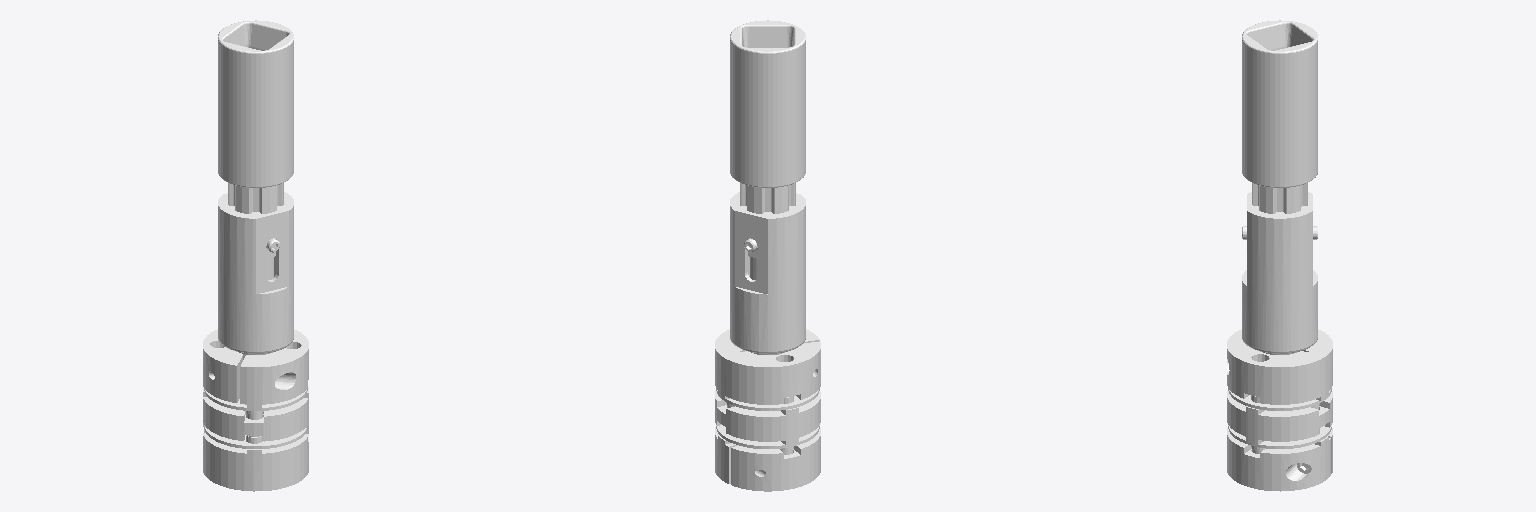
robot.urdf — 摇入摇出机构:
<?xml version="1.0" encoding="utf-8"?>
<!-- This URDF was automatically created by SolidWorks to URDF Exporter! Originally created by Stephen Brawner (brawner@gmail.com) 
     Commit Version: 1.5.1-0-g916b5db  Build Version: 1.5.7152.31018
     For more information, please see http://wiki.ros.org/sw_urdf_exporter -->
<robot
  name="摇入摇出机构">
  <link
    name="endbody2">
    <inertial>
      <origin
        xyz="-0.0027407 -0.042059 0.072703"
        rpy="0 0 0" />
      <mass
        value="0.45189" />
      <inertia
        ixx="0.00039369"
        ixy="4.162E-06"
        ixz="-3.6991E-06"
        iyy="0.00030531"
        iyz="-4.2375E-09"
        izz="0.0003897" />
    </inertial>
    <visual>
      <origin
        xyz="0 0 0"
        rpy="0 0 0" />
      <geometry>
        <mesh
          filename="package://摇入摇出机构/meshes/endbody2.STL" />
      </geometry>
      <material
        name="">
        <color
          rgba="1 1 1 1" />
      </material>
    </visual>
    <collision>
      <origin
        xyz="0 0 0"
        rpy="0 0 0" />
      <geometry>
        <mesh
          filename="package://摇入摇出机构/meshes/endbody2.STL" />
      </geometry>
    </collision>
  </link>
  <link
    name="endrotatelink">
    <inertial>
      <origin
        xyz="-1.0757E-05 -6.0061E-06 -0.086156"
        rpy="0 0 0" />
      <mass
        value="0.051985" />
      <inertia
        ixx="1.2277E-05"
        ixy="-6.5213E-09"
        ixz="-1.9512E-10"
        iyy="1.235E-05"
        iyz="-1.8084E-09"
        izz="5.3078E-06" />
    </inertial>
    <visual>
      <origin
        xyz="0 0 0"
        rpy="0 0 0" />
      <geometry>
        <mesh
          filename="package://摇入摇出机构/meshes/endrotatelink.STL" />
      </geometry>
      <material
        name="">
        <color
          rgba="1 1 1 1" />
      </material>
    </visual>
    <collision>
      <origin
        xyz="0 0 0"
        rpy="0 0 0" />
      <geometry>
        <mesh
          filename="package://摇入摇出机构/meshes/endrotatelink.STL" />
      </geometry>
    </collision>
  </link>
  <joint
    name="endbody2_endrotatelink"
    type="continuous">
    <origin
      xyz="-0.01 -0.07 0.2611"
      rpy="0 0 0" />
    <parent
      link="endbody2" />
    <child
      link="endrotatelink" />
    <axis
      xyz="0 0 1" />
    <limit
      lower="-3.14"
      upper="3.14"
      effort="100"
      velocity="1" />
    <dynamics
      damping="0.1"
      friction="1" />
    <safety_controller
      soft_upper="3.14"
      soft_lower="-3.14"
      k_position="1"
      k_velocity="1" />
  </joint>
</robot>

--- What the picture shows (computed from the rendered views, not written in the file) ---
3 views of the same robot in one strip: view 1: azimuth 30°, elevation 25°; view 2: azimuth 150°, elevation 25°; view 3: azimuth 270°, elevation 25° (orthographic).
Robot: 摇入摇出机构 — 2 links, 1 joints (1 continuous); root link endbody2; default pose: every joint at zero.
Links seen in each view (by area): view 1: endrotatelink; view 2: endrotatelink; view 3: endrotatelink.
Boxes of the visible links, x1,y1,x2,y2 form: endrotatelink: (203, 20, 308, 491); endrotatelink: (715, 20, 820, 491); endrotatelink: (1227, 20, 1332, 491).
Bounding box of the posed robot: 0.032 × 0.032 × 0.143 m (x, y, z).
Meshes: 2 distinct files referenced, 1 mesh visuals loaded (1 binary STL); not drawn: 1 (reference not matched to a file when rendering).
